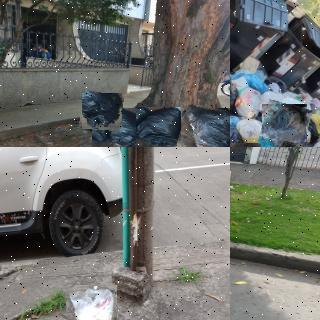Garbage: (259, 101, 309, 147), (91, 108, 149, 147), (178, 104, 230, 147), (66, 284, 117, 320), (136, 107, 181, 147), (81, 91, 123, 131)
